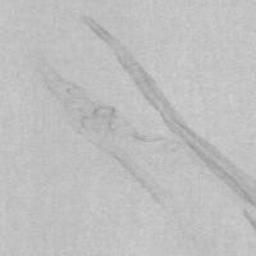Water spot: (33, 13, 256, 256)
